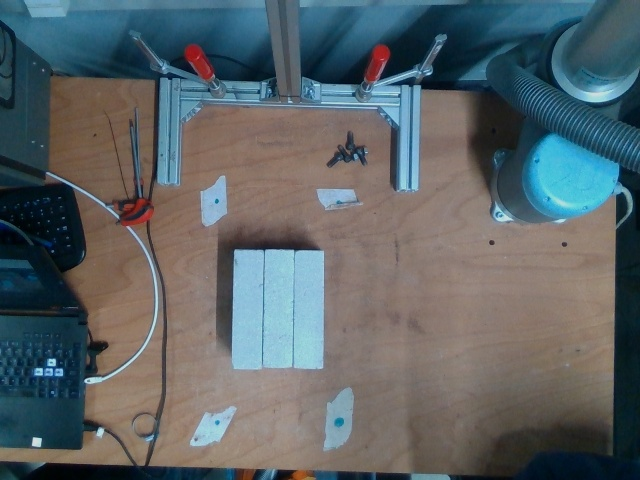brick-side: (264, 250, 294, 366), (232, 250, 261, 369), (295, 252, 322, 368)
